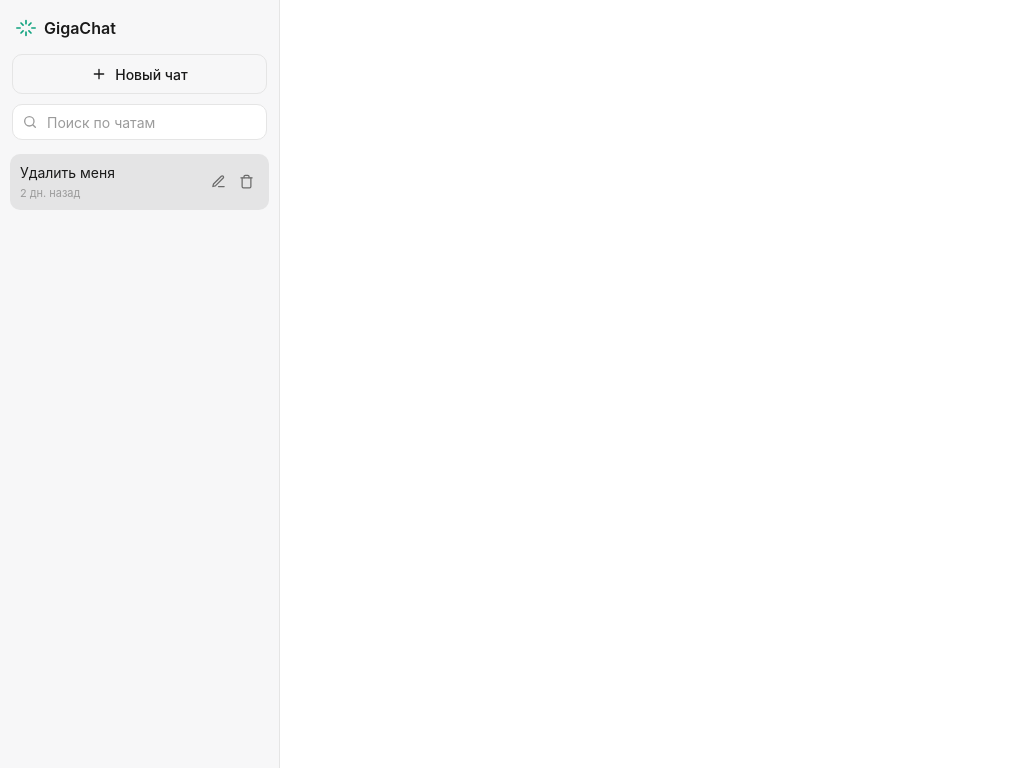
Test: Sidebar › удаление чата › клик по иконке удаления открывает диалог подтверждения
This screenshot has width=1024, height=768.
Click the button named "удалить чат" at [246, 182], box top-left (233, 169), bottom-right (259, 195)
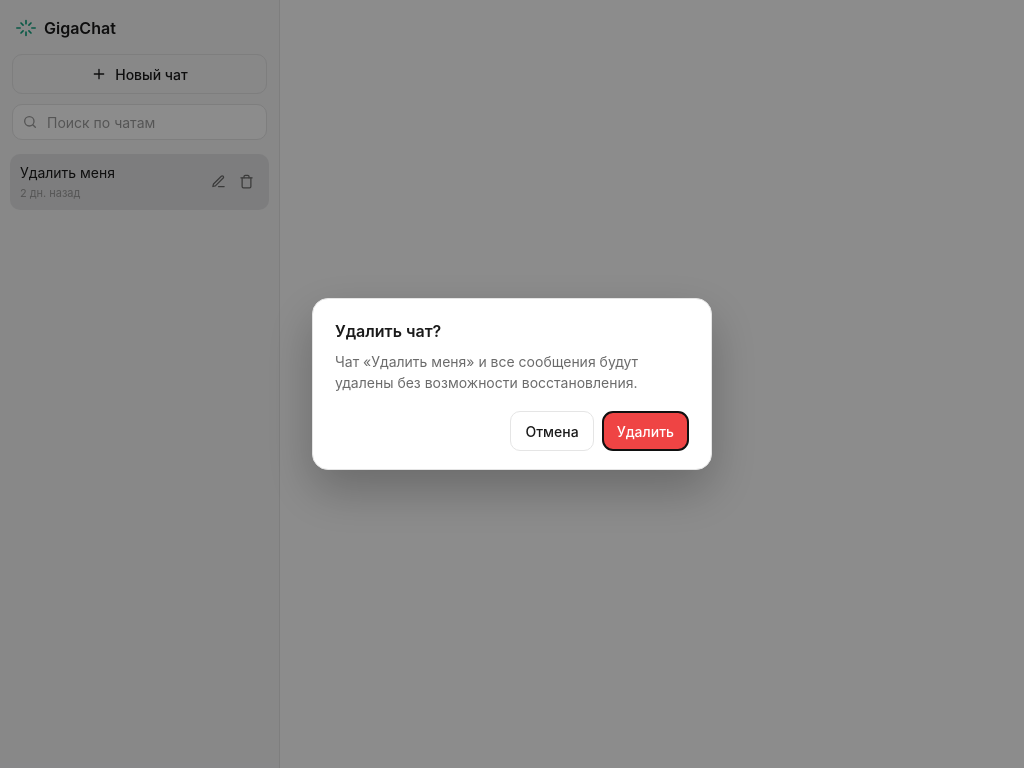
expect the dialog is shown: met, box top-left (312, 298), bottom-right (712, 470)
expect the heading "Удалить чат?" is shown: met, box top-left (335, 321), bottom-right (441, 341)
expect the text "«Удалить меня»" is shown: met, box top-left (335, 353), bottom-right (638, 391)
